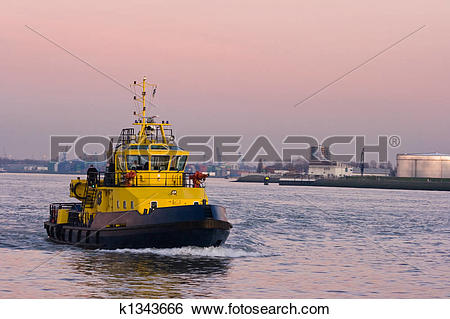otherboat: (41, 76, 232, 251)
